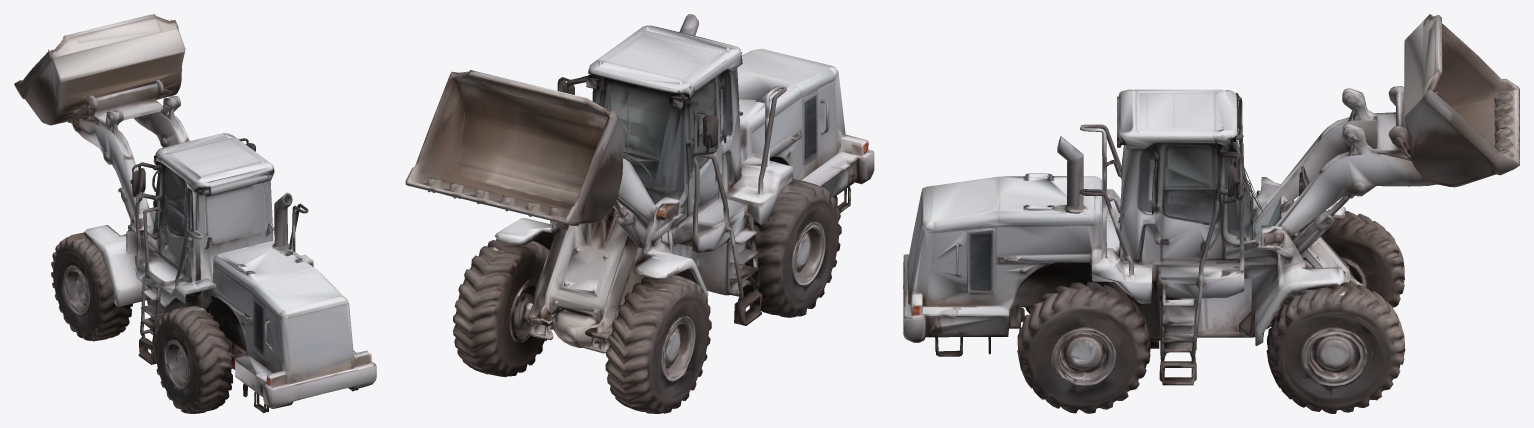
The model's file is load3-loader.glb.
3 views of the same model, side by side, from view 1: azimuth 30°, elevation 25°; view 2: azimuth 150°, elevation 25°; view 3: azimuth 270°, elevation 25° (orthographic). The views are drawn at different scales.
Visible parts, largest first — view 1: body; view 2: body; view 3: body.
Boxes of the visible parts, x1,y1,x2,y2 form: body: (14, 14, 376, 413); body: (405, 14, 874, 413); body: (903, 14, 1519, 413).
Bounding box in the file's own units: 2.58 × 4.34 × 7.34.
Materials: 1 (1 with a texture image).
